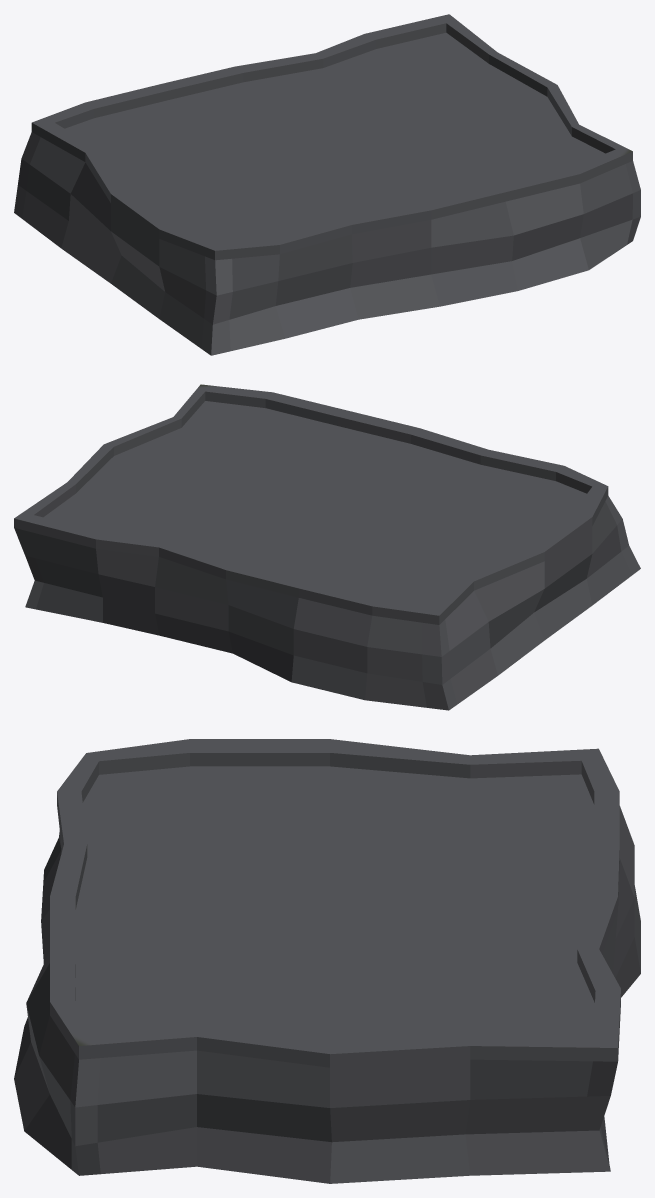
Rendered from Slab1.glb.
3 views of the same model, one above another, from view 1: azimuth 30°, elevation 25°; view 2: azimuth 150°, elevation 25°; view 3: azimuth 270°, elevation 25° (orthographic). The views are drawn at different scales.
Visible parts, largest first — view 1: Slab; view 2: Slab; view 3: Slab.
Boxes of the visible parts, <box> form: Slab: <box>14,14,640,355</box>; Slab: <box>14,384,640,710</box>; Slab: <box>14,739,640,1183</box>.
Bounding box in the file's own units: 2.67 × 0.511 × 2.24.
1 material, 1 textured.
